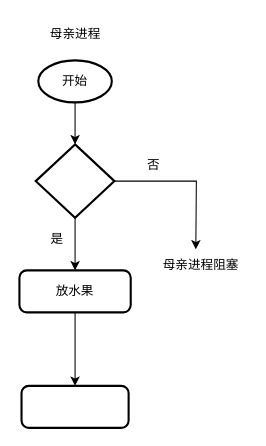
Some shapes in this 266 by 446 pixel diagram are drawn without their labels. Here are the shapes that lost their labels. From the top down, the centre of each, then its label:
the point at 74,180: 盘子是否为空？
the point at 74,406: 唤醒son进程
